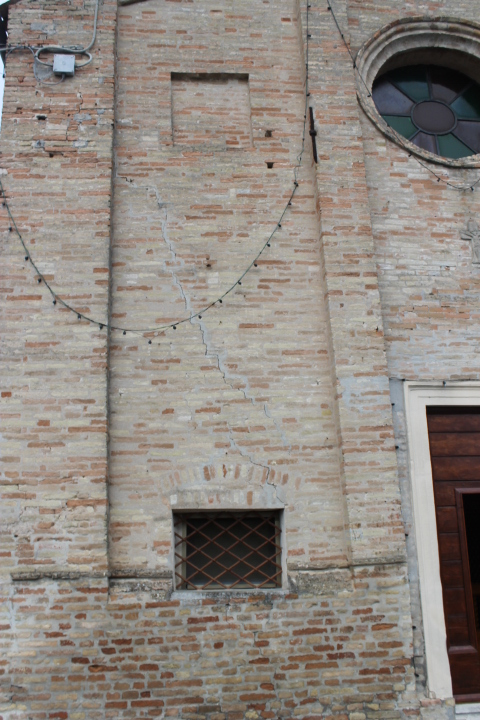Crack: (6, 82, 306, 510)
